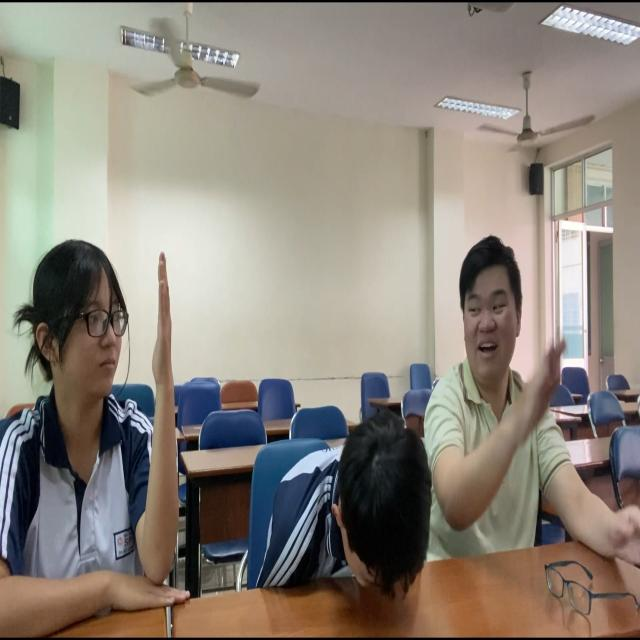raise_hand: (1, 226, 183, 640)
